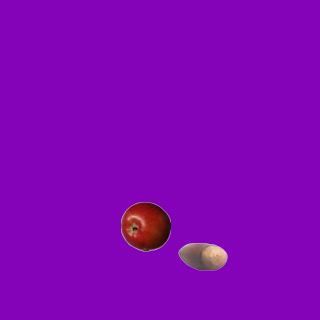Apple Braeburn: (120, 201, 170, 251)
Hazelnut: (177, 231, 227, 281)
